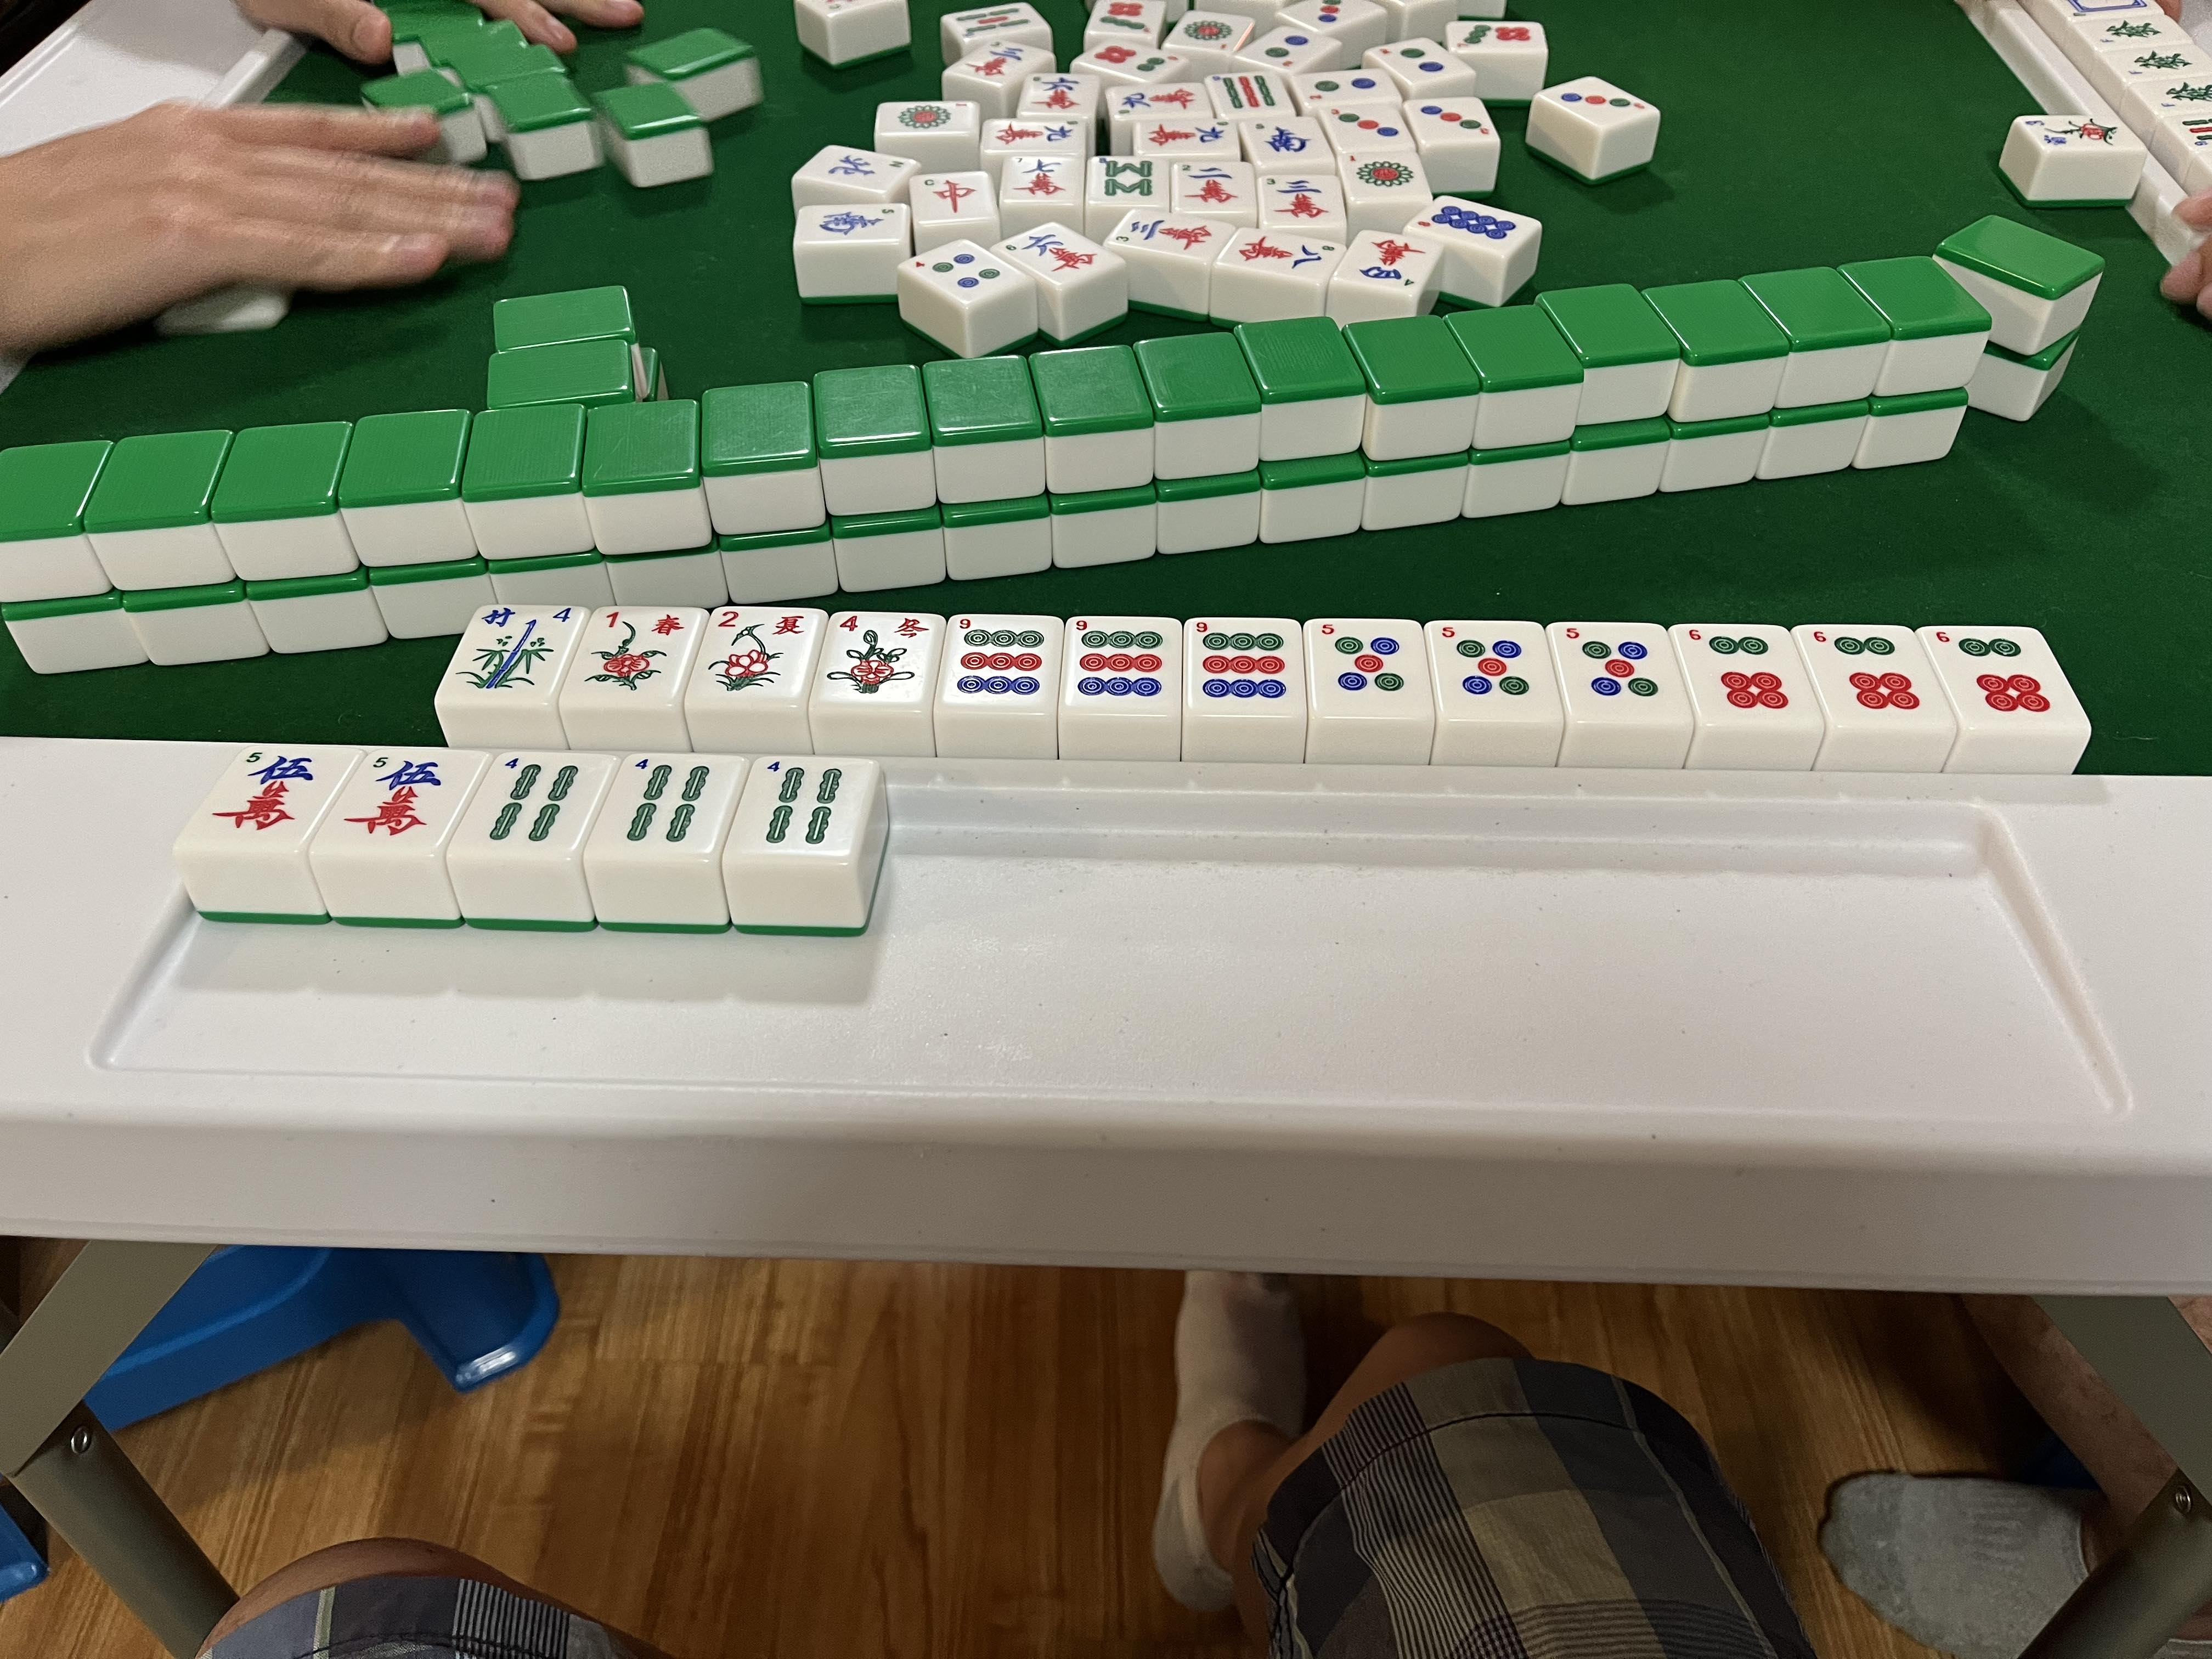bamboo-four: (484, 751, 577, 849), (624, 755, 716, 850), (756, 755, 845, 850)
character-five: (206, 744, 315, 849), (343, 753, 448, 849)
circle-five: (1435, 620, 1545, 716), (1562, 620, 1670, 714), (1313, 619, 1418, 708)
circle-nine: (1188, 617, 1301, 711), (951, 615, 1050, 706), (1071, 615, 1169, 706)
circle-six: (1933, 626, 2052, 723), (1686, 626, 1799, 720), (1808, 627, 1921, 720)
flower-blue_four: (449, 601, 573, 699)
flower-red_four: (827, 608, 934, 704)
flower-red_one: (582, 606, 688, 694)
flower-red_two: (709, 606, 810, 701)
